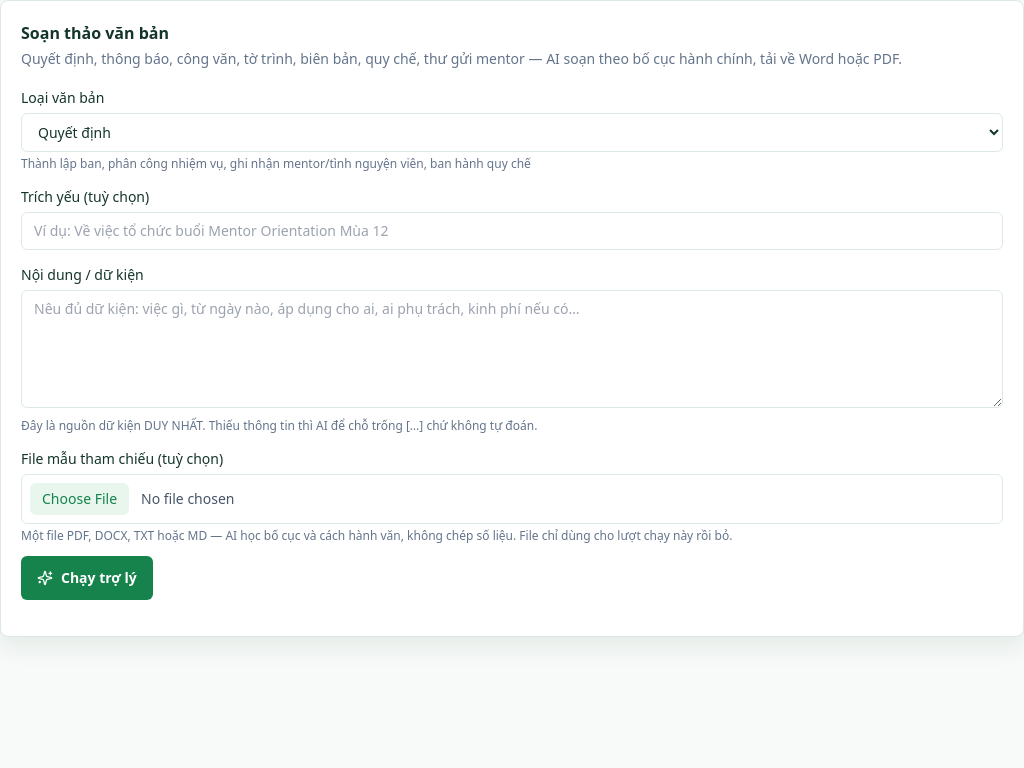
Test: form dựng được và mang đúng trường › soạn thảo: không có văn bản kế toán, đổi loại thì đổi gợi ý, chỉ một file mẫu
Select "Công văn gửi ra ngoài" in the dropdown named "docType" at coordinates (512, 132), box x1=21 y1=113 x2=1003 y2=152
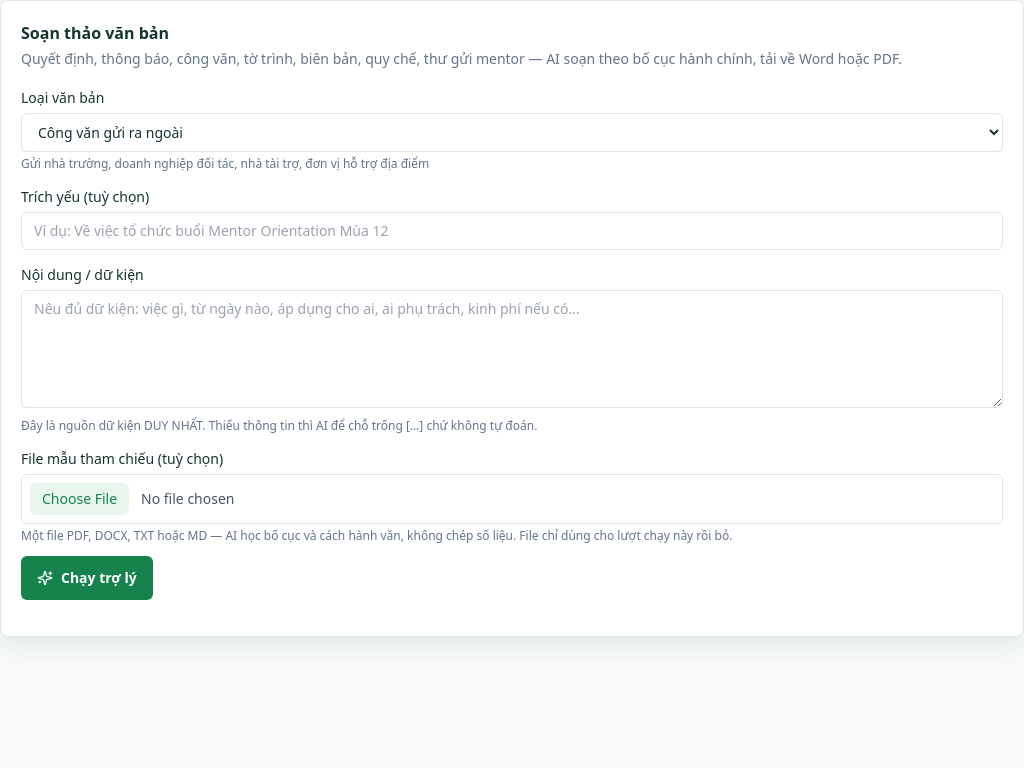
Expected: the text "Gửi nhà trường, doanh nghiệp đối tác, nhà tài trợ" is shown, x1=21 y1=155 x2=429 y2=172
